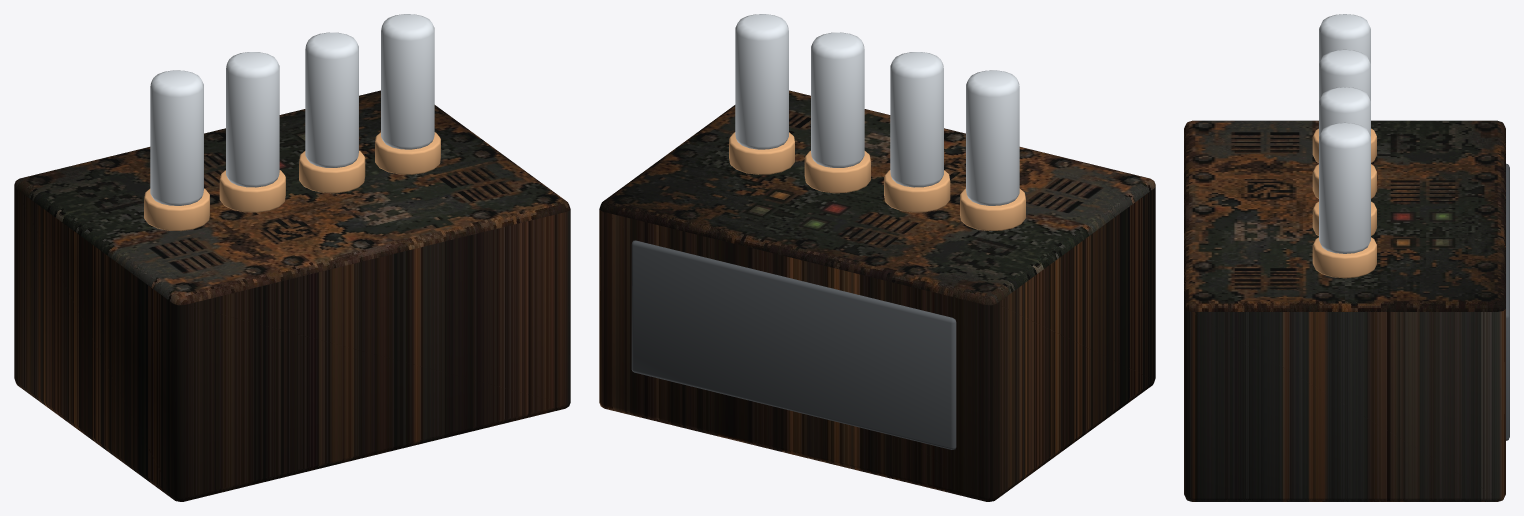
File: power_inverter.glb
The picture shows the model from 3 angles, left to right: view 1: azimuth 30°, elevation 25°; view 2: azimuth 150°, elevation 25°; view 3: azimuth 270°, elevation 25°; orthographic projection. The views are drawn at different scales.
Visible parts, largest first — view 1: PowerInverter; view 2: PowerInverter; view 3: PowerInverter.
Boxes of the visible parts, x1=… form: PowerInverter: x1=14, y1=14, x2=570, y2=501; PowerInverter: x1=599, y1=14, x2=1155, y2=501; PowerInverter: x1=1184, y1=14, x2=1509, y2=501.
Bounding box in the file's own units: 1.1 × 0.92 × 0.81.
5 materials, 1 textured.
